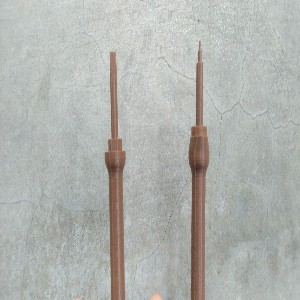obeng: (104, 50, 127, 300)
solder: (188, 38, 211, 300)
